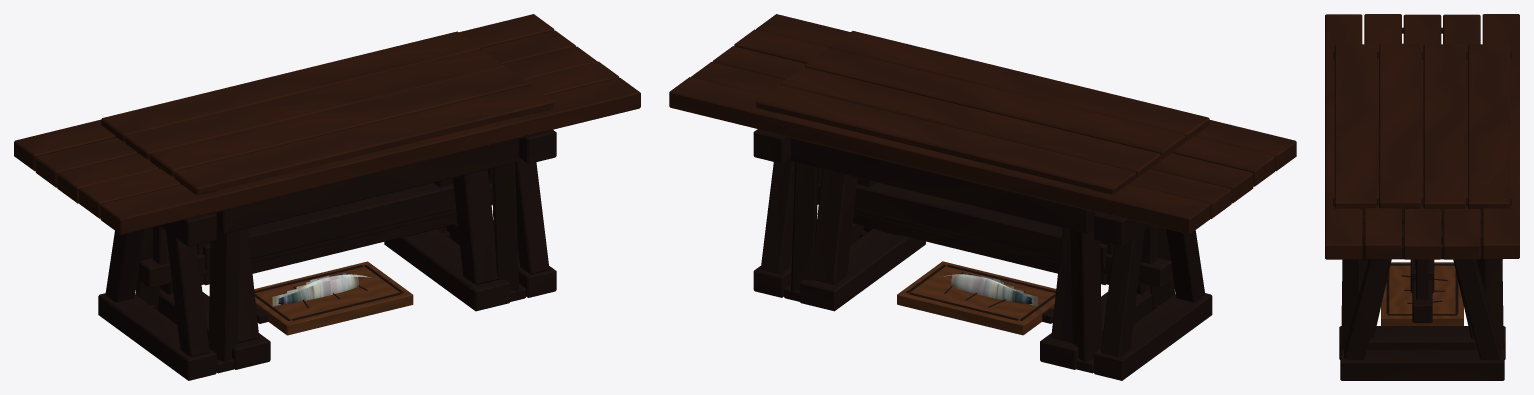
The model's file is medieval_table_kit.glb.
3 renders of one model, left to right at view 1: azimuth 30°, elevation 25°; view 2: azimuth 150°, elevation 25°; view 3: azimuth 270°, elevation 25°, orthographic. The views are drawn at different scales.
Parts seen in each view (by area): view 1: WorkTableFrame, LongTableFrame, CommonTableFrame, CuttingBoard, Herring; view 2: WorkTableFrame, LongTableFrame, CommonTableFrame, CuttingBoard, Herring; view 3: WorkTableFrame, LongTableFrame, CuttingBoard, CommonTableFrame.
Boxes of the visible parts, <box> form: WorkTableFrame: <box>101,31,553,369</box>; LongTableFrame: <box>14,14,640,380</box>; CommonTableFrame: <box>135,131,546,373</box>; CuttingBoard: <box>254,261,413,335</box>; Herring: <box>272,272,371,306</box>; WorkTableFrame: <box>756,31,1209,369</box>; LongTableFrame: <box>669,14,1296,380</box>; CommonTableFrame: <box>763,130,1174,373</box>; CuttingBoard: <box>897,261,1056,335</box>; Herring: <box>939,272,1037,306</box>; WorkTableFrame: <box>1333,43,1511,359</box>; LongTableFrame: <box>1325,14,1519,380</box>; CuttingBoard: <box>1381,262,1463,325</box>; CommonTableFrame: <box>1341,219,1503,349</box>.
Size of the model in its own units: 2.3 by 0.8239 by 0.82.
Materials: 5 (5 with a texture image).
